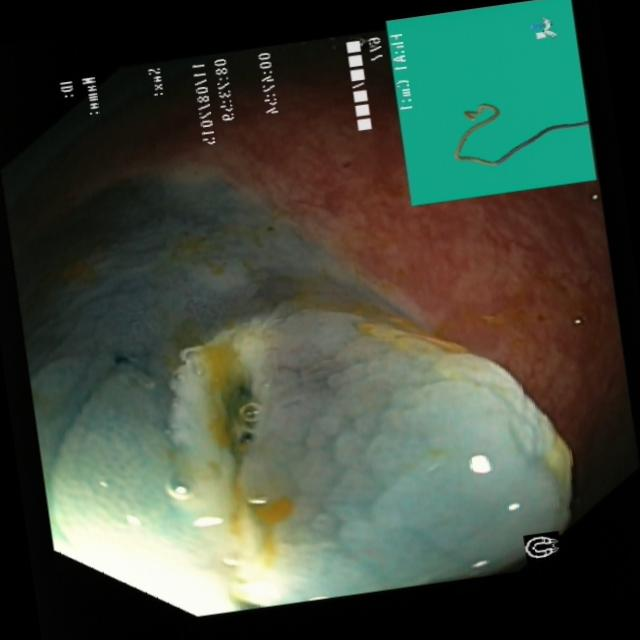dyed-resection-margins: (145, 289, 587, 611)
